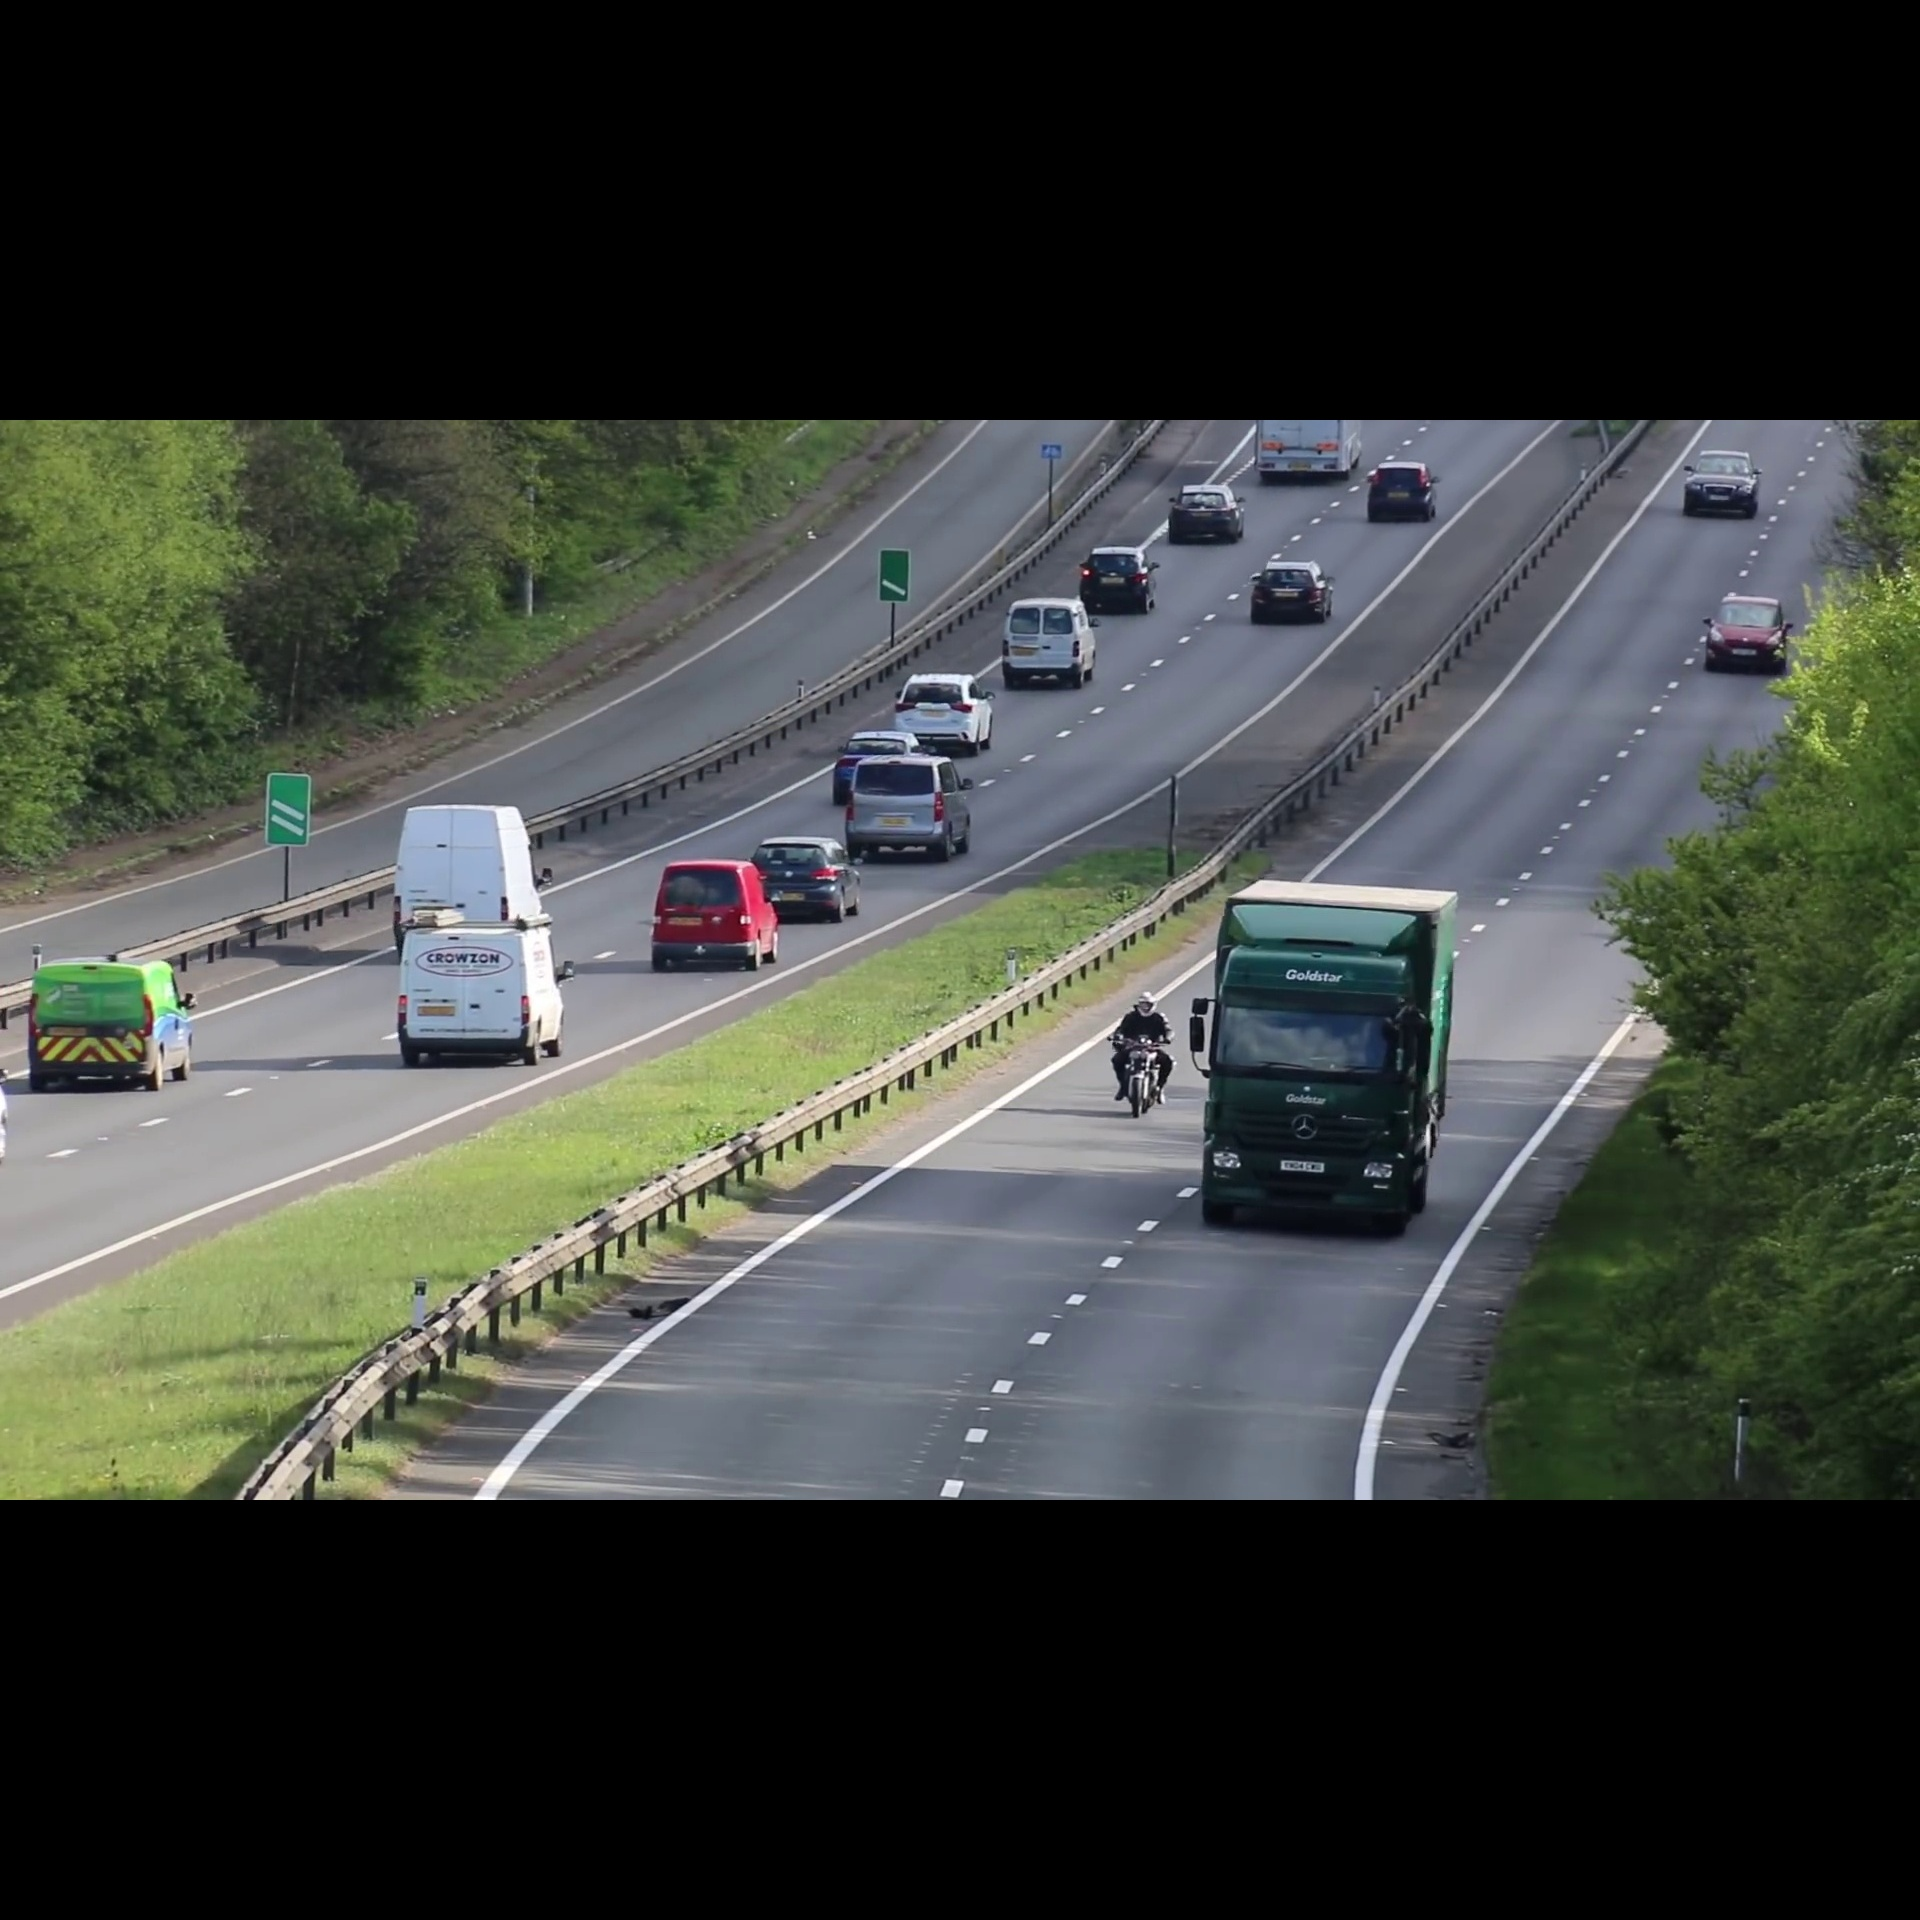vehicle: (1194, 876, 1470, 1247), (394, 927, 571, 1074), (21, 960, 215, 1094), (389, 802, 554, 927), (644, 860, 781, 978), (846, 758, 978, 862), (753, 835, 863, 925), (1000, 600, 1101, 689), (1698, 591, 1802, 675), (1248, 420, 1364, 482), (1677, 447, 1765, 524), (893, 672, 997, 733), (1247, 556, 1335, 624), (1078, 542, 1159, 614), (1162, 480, 1245, 547), (1364, 461, 1444, 527), (835, 731, 930, 784)
